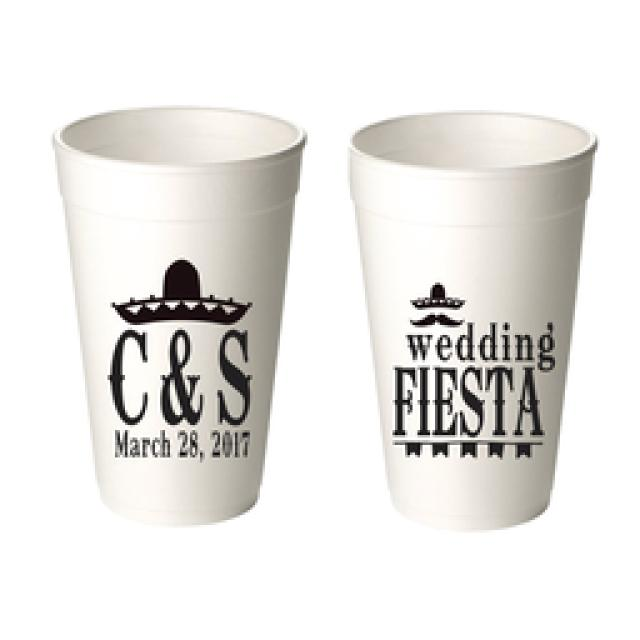inorganic: (53, 108, 304, 526), (350, 110, 596, 529)
